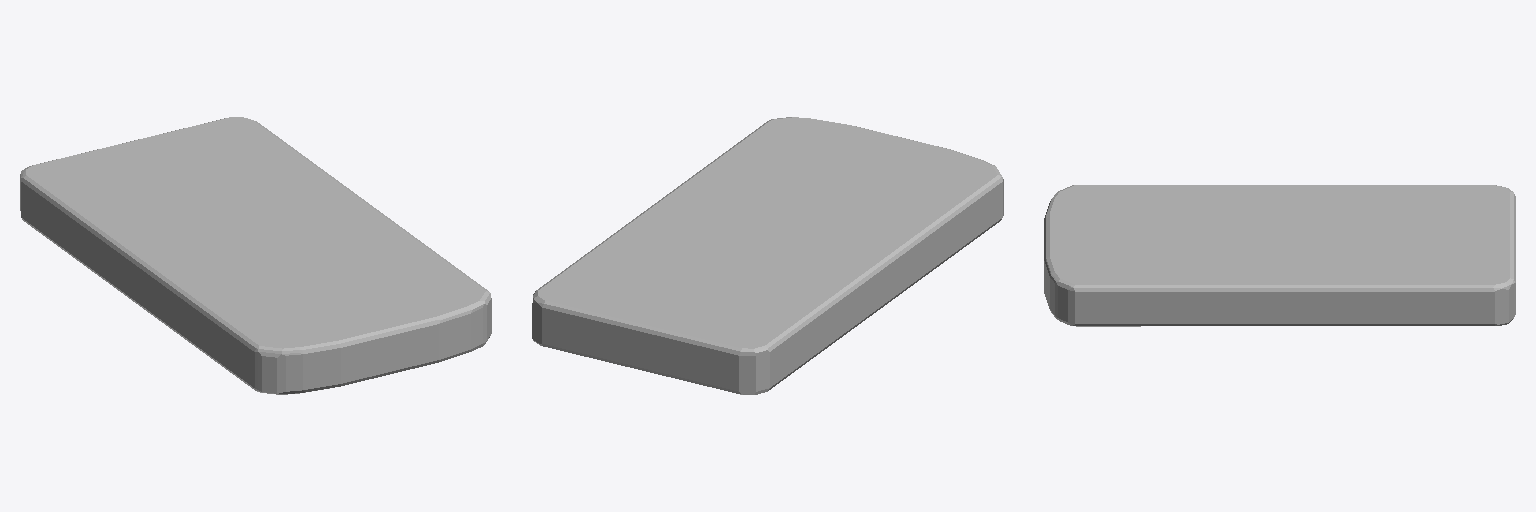
The robot description file, URDF, robot "root":
<robot name="root">
  <link name="link_coacd_convex_piece_0">
    <inertial>
      <origin xyz="0 0 0" rpy="0 0 0"/>
      <inertia ixx="2.53E-02" ixy="2.53E-06" ixz="-2.09E-07" iyy="3.52E-03" iyz="1.13E-04" izz="2.85E-02"/>
    </inertial>
    <visual>
      <origin xyz="0 0 0" rpy="0 0 0"/>
      <geometry>
        <mesh filename="coacd_convex_piece_0.obj" scale="1.0000E+00 1.0000E+00 1.0000E+00"/>
      </geometry>
      <material name="">
        <color rgba="7.50E-01 7.50E-01 7.50E-01 1"/>
      </material>
    </visual>
    <collision>
      <origin xyz="0 0 0" rpy="0 0 0"/>
      <geometry>
        <mesh filename="coacd_convex_piece_0.obj" scale="1.0000E+00 1.0000E+00 1.0000E+00"/>
      </geometry>
    </collision>
  </link>
  <link name="link_coacd_convex_piece_1">
    <inertial>
      <origin xyz="0 0 0" rpy="0 0 0"/>
      <inertia ixx="1.57E-02" ixy="1.01E-06" ixz="1.24E-08" iyy="1.76E-03" iyz="-1.90E-04" izz="1.74E-02"/>
    </inertial>
    <visual>
      <origin xyz="0 0 0" rpy="0 0 0"/>
      <geometry>
        <mesh filename="coacd_convex_piece_1.obj" scale="1.0000E+00 1.0000E+00 1.0000E+00"/>
      </geometry>
      <material name="">
        <color rgba="7.50E-01 7.50E-01 7.50E-01 1"/>
      </material>
    </visual>
    <collision>
      <origin xyz="0 0 0" rpy="0 0 0"/>
      <geometry>
        <mesh filename="coacd_convex_piece_1.obj" scale="1.0000E+00 1.0000E+00 1.0000E+00"/>
      </geometry>
    </collision>
  </link>
  <joint name="link_coacd_convex_piece_1_joint" type="fixed">
    <origin xyz="0 0 0" rpy="0 0 0"/>
    <parent link="link_coacd_convex_piece_0"/>
    <child link="link_coacd_convex_piece_1"/>
  </joint>
  <link name="link_coacd_convex_piece_2">
    <inertial>
      <origin xyz="0 0 0" rpy="0 0 0"/>
      <inertia ixx="2.25E-02" ixy="-2.42E-08" ixz="-9.50E-07" iyy="1.23E-02" iyz="-1.45E-04" izz="3.40E-02"/>
    </inertial>
    <visual>
      <origin xyz="0 0 0" rpy="0 0 0"/>
      <geometry>
        <mesh filename="coacd_convex_piece_2.obj" scale="1.0000E+00 1.0000E+00 1.0000E+00"/>
      </geometry>
      <material name="">
        <color rgba="7.50E-01 7.50E-01 7.50E-01 1"/>
      </material>
    </visual>
    <collision>
      <origin xyz="0 0 0" rpy="0 0 0"/>
      <geometry>
        <mesh filename="coacd_convex_piece_2.obj" scale="1.0000E+00 1.0000E+00 1.0000E+00"/>
      </geometry>
    </collision>
  </link>
  <joint name="link_coacd_convex_piece_2_joint" type="fixed">
    <origin xyz="0 0 0" rpy="0 0 0"/>
    <parent link="link_coacd_convex_piece_1"/>
    <child link="link_coacd_convex_piece_2"/>
  </joint>
</robot>

--- Render facts (derived) ---
3 views of the same robot in one strip: view 1: azimuth 30°, elevation 25°; view 2: azimuth 150°, elevation 25°; view 3: azimuth 270°, elevation 25° (orthographic).
Model root with 3 links and 2 joints (2 fixed), rooted at link_coacd_convex_piece_0, posed all joints at 0.
Visible links, largest first — view 1: link_coacd_convex_piece_2, link_coacd_convex_piece_0, link_coacd_convex_piece_1; view 2: link_coacd_convex_piece_2, link_coacd_convex_piece_1, link_coacd_convex_piece_0; view 3: link_coacd_convex_piece_2, link_coacd_convex_piece_0, link_coacd_convex_piece_1.
Boxes of the visible links, left/top/right/bottom form: link_coacd_convex_piece_2: left=38, top=132, right=450, bottom=363; link_coacd_convex_piece_0: left=218, top=264, right=491, bottom=394; link_coacd_convex_piece_1: left=20, top=117, right=271, bottom=231; link_coacd_convex_piece_2: left=553, top=147, right=965, bottom=378; link_coacd_convex_piece_1: left=532, top=279, right=785, bottom=394; link_coacd_convex_piece_0: left=733, top=117, right=1003, bottom=246; link_coacd_convex_piece_2: left=1142, top=185, right=1465, bottom=325; link_coacd_convex_piece_0: left=1044, top=185, right=1141, bottom=326; link_coacd_convex_piece_1: left=1466, top=185, right=1515, bottom=325.
Size in the robot's own frame: 0.937 by 1.8 by 0.1952 metres.
3 mesh visuals loaded from 3 distinct referenced files (3 OBJ).
